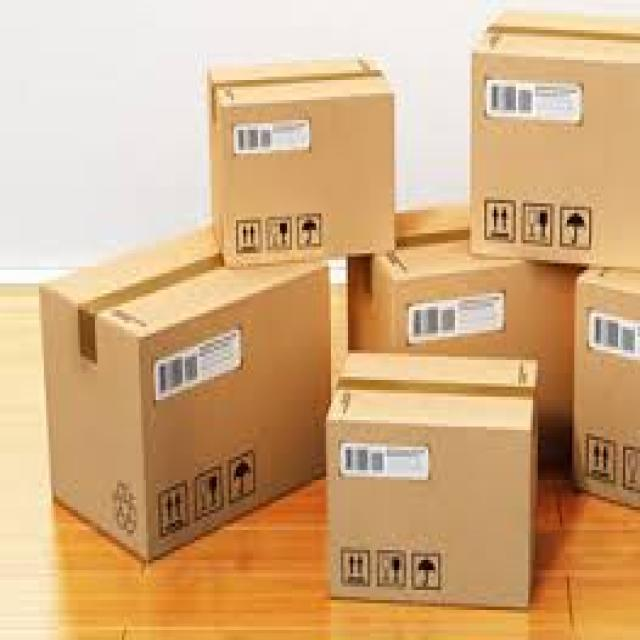cardboard: (36, 217, 331, 560), (345, 203, 572, 450), (322, 347, 536, 607), (470, 7, 638, 260), (205, 57, 395, 267), (570, 263, 638, 507)
